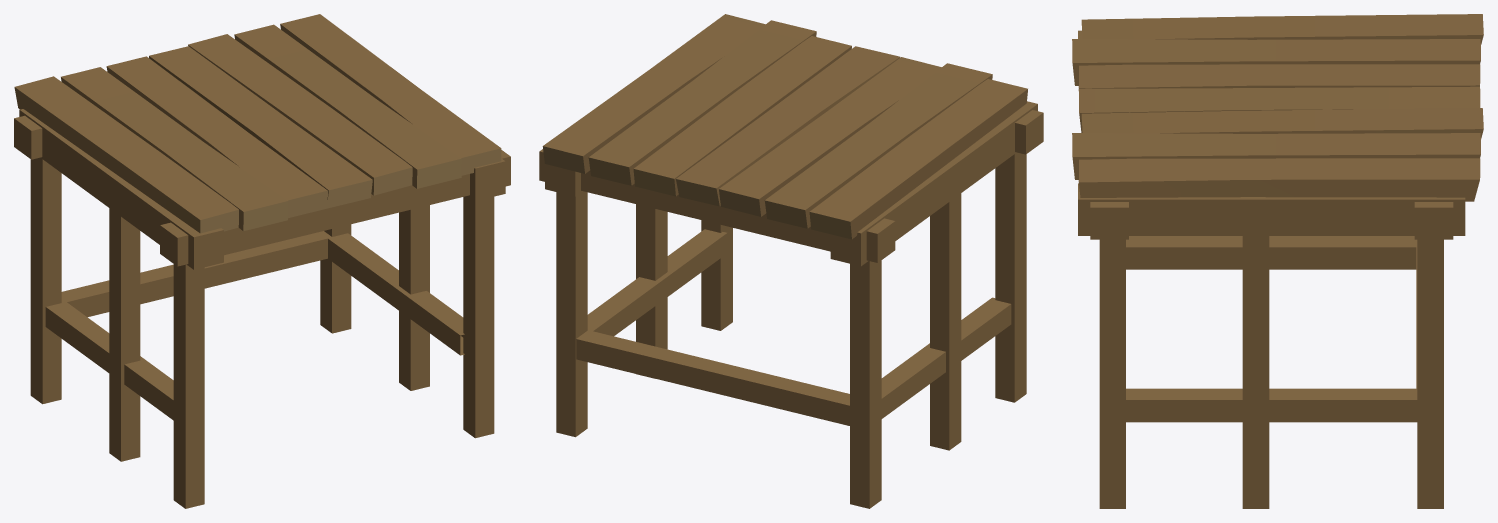
The model's file is Houses_FirstAge_3_Level1.glb.
The picture shows the model from 3 angles, left to right: view 1: azimuth 30°, elevation 25°; view 2: azimuth 150°, elevation 25°; view 3: azimuth 270°, elevation 25°; orthographic projection. The views are drawn at different scales.
Parts seen in each view (by area): view 1: Houses_FirstAge_3_Level1; view 2: Houses_FirstAge_3_Level1; view 3: Houses_FirstAge_3_Level1.
Boxes of the visible parts, left/top/right/bottom form: Houses_FirstAge_3_Level1: left=14, top=14, right=510, bottom=508; Houses_FirstAge_3_Level1: left=539, top=14, right=1043, bottom=508; Houses_FirstAge_3_Level1: left=1072, top=14, right=1483, bottom=508.
Size of the model in its own units: 0.6765 by 0.5741 by 0.6513.
